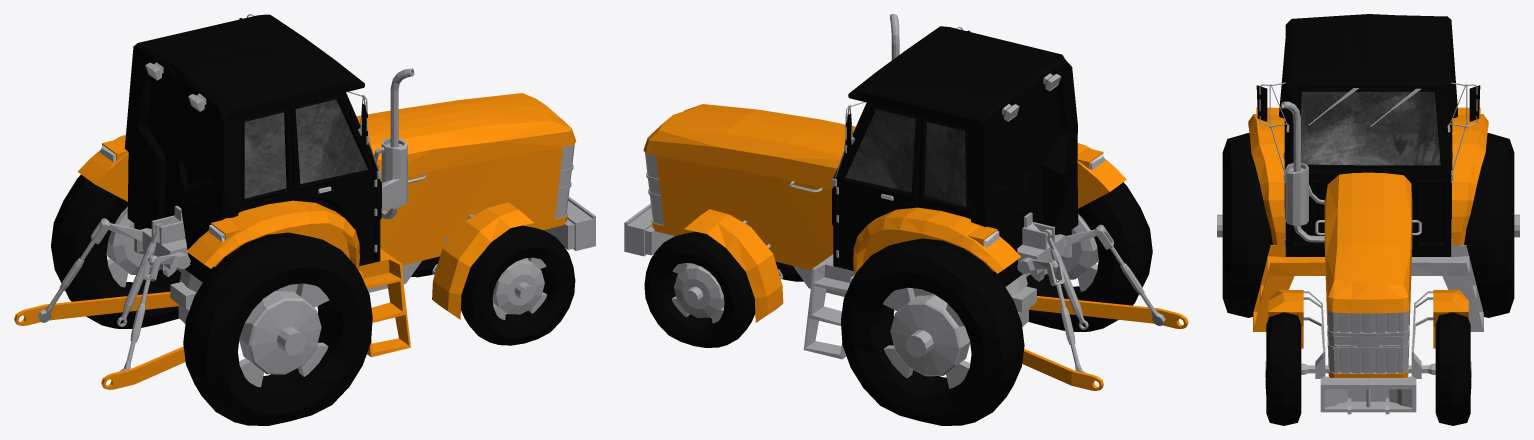
The model's file is Tracter.fbx.
The picture shows the model from 3 angles, left to right: view 1: azimuth 30°, elevation 25°; view 2: azimuth 150°, elevation 25°; view 3: azimuth 270°, elevation 25°; orthographic projection. The views are drawn at different scales.
Visible parts, largest first — view 1: SM_Town_Farm_Tractor_01.mo; view 2: SM_Town_Farm_Tractor_01.mo; view 3: SM_Town_Farm_Tractor_01.mo.
Part boxes in pixels (x1,y1,x2,y2): SM_Town_Farm_Tractor_01.mo: (14,14,595,425); SM_Town_Farm_Tractor_01.mo: (624,14,1188,425); SM_Town_Farm_Tractor_01.mo: (1217,14,1519,425).
Bounding box in the file's own units: 513 × 290 × 287.
